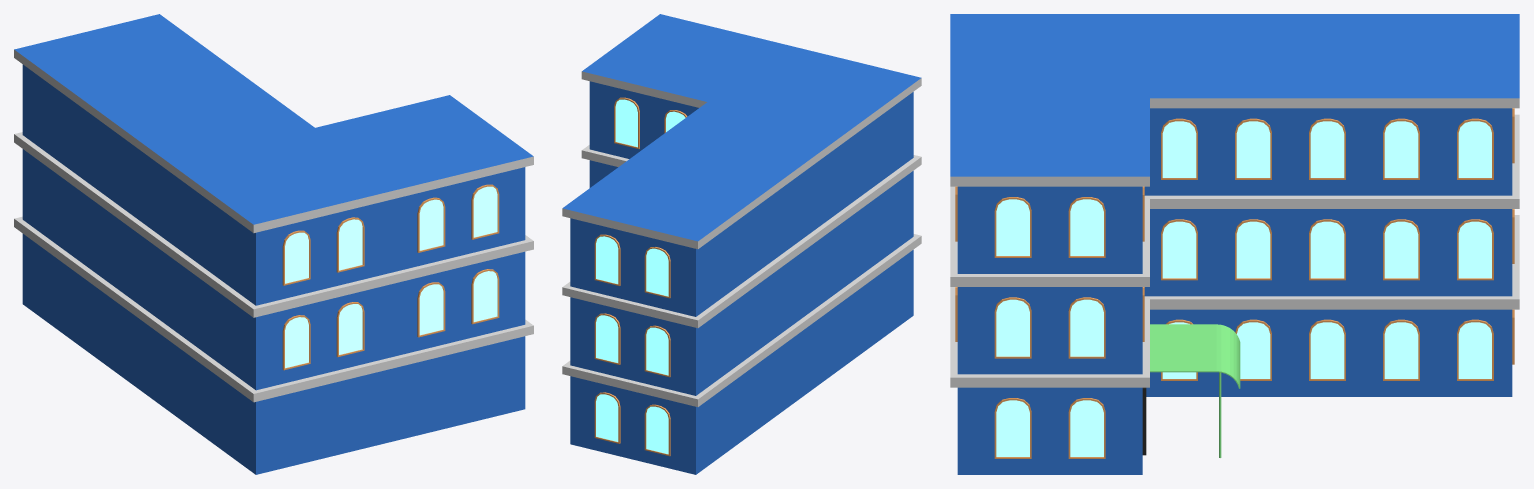
Rendered from building4.fbx.
3 views of the same model, side by side, from view 1: azimuth 30°, elevation 25°; view 2: azimuth 150°, elevation 25°; view 3: azimuth 270°, elevation 25° (orthographic). The views are drawn at different scales.
Parts seen in each view (by area): view 1: Cube.012, Cube.019; view 2: Cube.012, Cube.019, Cube.016; view 3: Cube.012, Cube.019, Cube.015, Circle.003, Cube.014.
Part boxes in pixels (left/top/right/bottom): Cube.012: left=14, top=14, right=533, bottom=474; Cube.019: left=282, top=184, right=499, bottom=370; Cube.012: left=562, top=14, right=921, bottom=474; Cube.019: left=594, top=97, right=687, bottom=377; Cube.016: left=594, top=392, right=670, bottom=456; Cube.012: left=950, top=14, right=1519, bottom=474; Cube.019: left=955, top=108, right=1514, bottom=358; Cube.015: left=1161, top=319, right=1493, bottom=380; Circle.003: left=1150, top=324, right=1240, bottom=388; Cube.014: left=994, top=398, right=1105, bottom=458.
Size of the model in its own units: 1040 by 900 by 1540.
